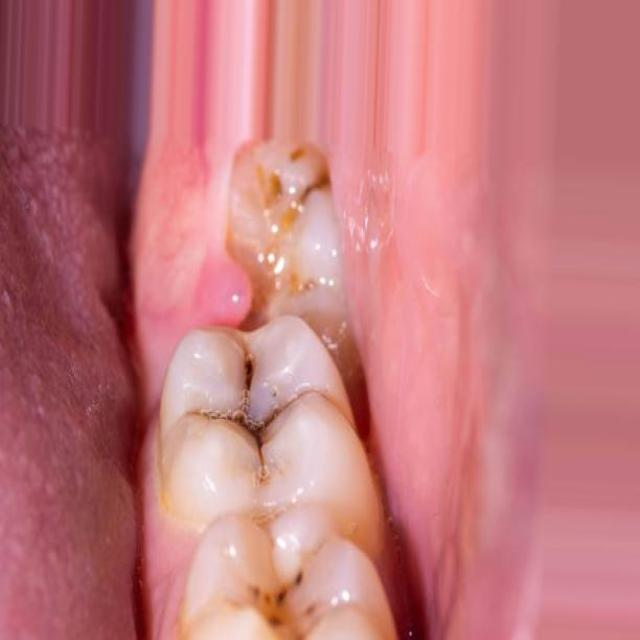caries: (190, 341, 311, 484), (240, 142, 324, 289), (232, 543, 332, 640)
